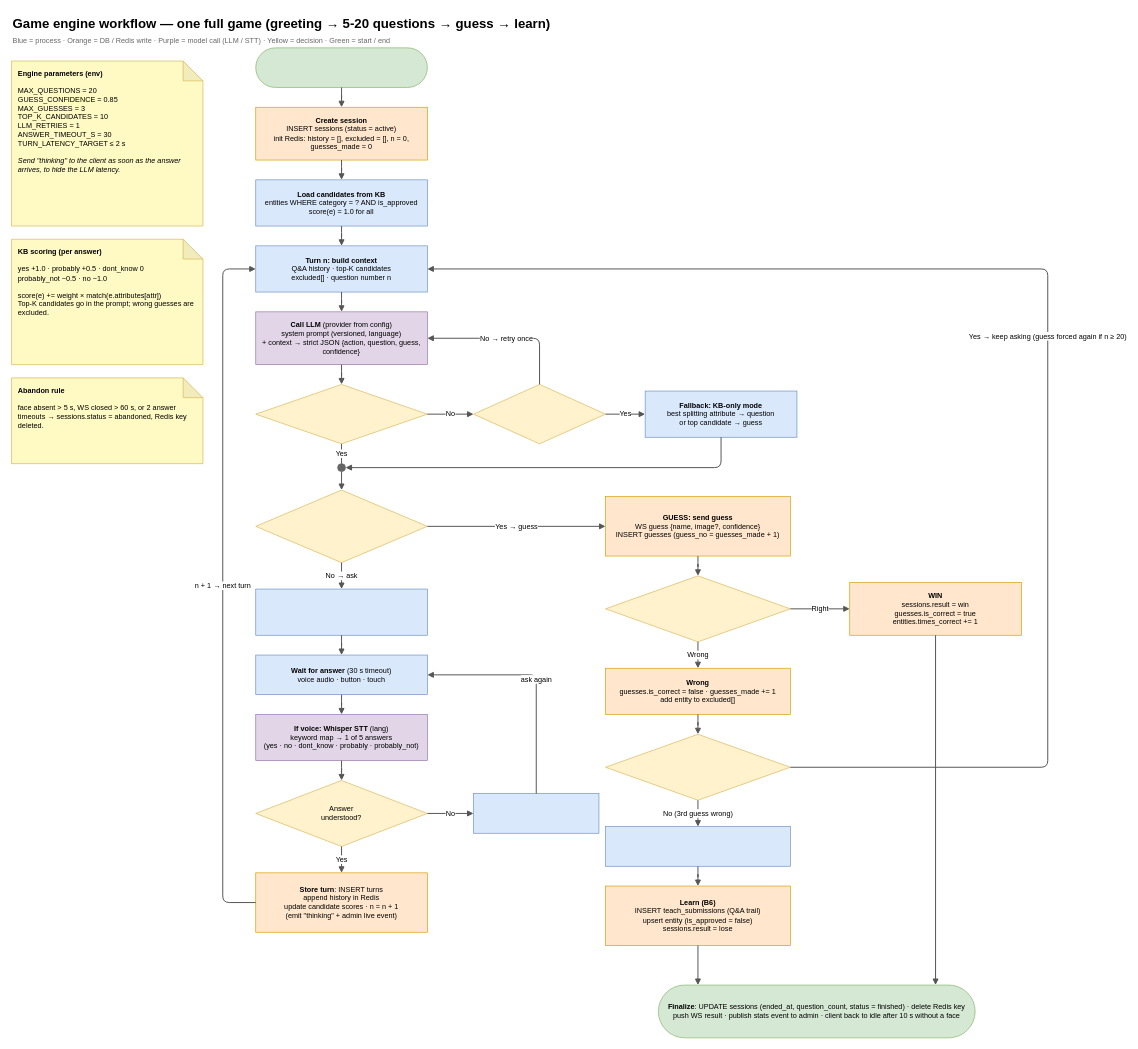
Some shapes in this 1138 by 1049 pixel diagram are drawn without their labels. The shapes that lost their labels are listed below. From the top down, each one's centre as x and y in pixels, then its label:
the point at 341,67: Start session WS start / POST /api/games category · language · source
the point at 341,414: Valid JSON (schema check)?
the point at 539,414: Retry already used?
the point at 341,526: confidence ≥ 0.85 or n = 20?
the point at 341,611: ASK: send question WS question {text, n/20, lang} + Piper TTS audio on the robot
the point at 697,608: Player says "Right"?
the point at 697,767: guesses_made < 3 ?
the point at 536,813: Ask to repeat or press a button
the point at 697,846: "Teach me" player types the right answer
